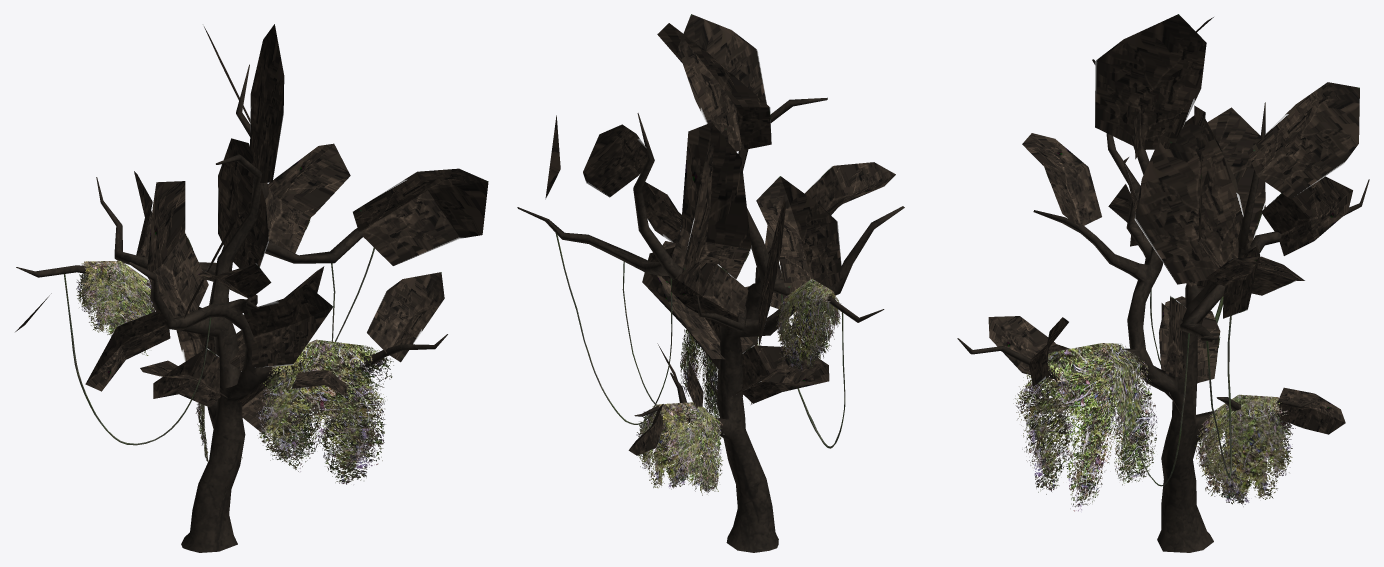
Rendered from Tree 2 v1 - LOD 0.fbx.
3 renders of one model, left to right at view 1: azimuth 30°, elevation 25°; view 2: azimuth 150°, elevation 25°; view 3: azimuth 270°, elevation 25°, orthographic. The views are drawn at different scales.
Parts seen in each view (by area): view 1: Branches 2 v1 - LOD 0, Hanging Moss 2 v1 - LOD 0, Bark 2 v1 - LOD 0, Vines 2 v1 - LOD 0; view 2: Branches 2 v1 - LOD 0, Bark 2 v1 - LOD 0, Hanging Moss 2 v1 - LOD 0, Vines 2 v1 - LOD 0; view 3: Branches 2 v1 - LOD 0, Hanging Moss 2 v1 - LOD 0, Bark 2 v1 - LOD 0, Vines 2 v1 - LOD 0.
Part boxes in pixels (x1,y1,x2,y2): Branches 2 v1 - LOD 0: (15, 24, 488, 433); Hanging Moss 2 v1 - LOD 0: (76, 260, 393, 484); Bark 2 v1 - LOD 0: (16, 64, 447, 552); Vines 2 v1 - LOD 0: (64, 247, 374, 445); Branches 2 v1 - LOD 0: (545, 14, 895, 455); Bark 2 v1 - LOD 0: (517, 97, 904, 552); Hanging Moss 2 v1 - LOD 0: (636, 279, 841, 495); Vines 2 v1 - LOD 0: (555, 233, 845, 448); Branches 2 v1 - LOD 0: (988, 14, 1359, 434); Hanging Moss 2 v1 - LOD 0: (1013, 343, 1295, 511); Bark 2 v1 - LOD 0: (957, 59, 1369, 552); Vines 2 v1 - LOD 0: (1122, 289, 1232, 486).
Bounding box in the file's own units: 22.33 × 26.97 × 17.95.
